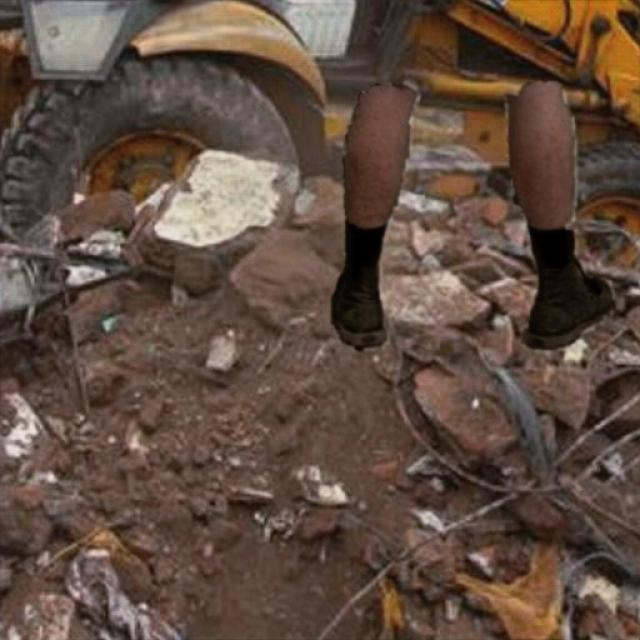Person in Rubble: (331, 81, 614, 350)
